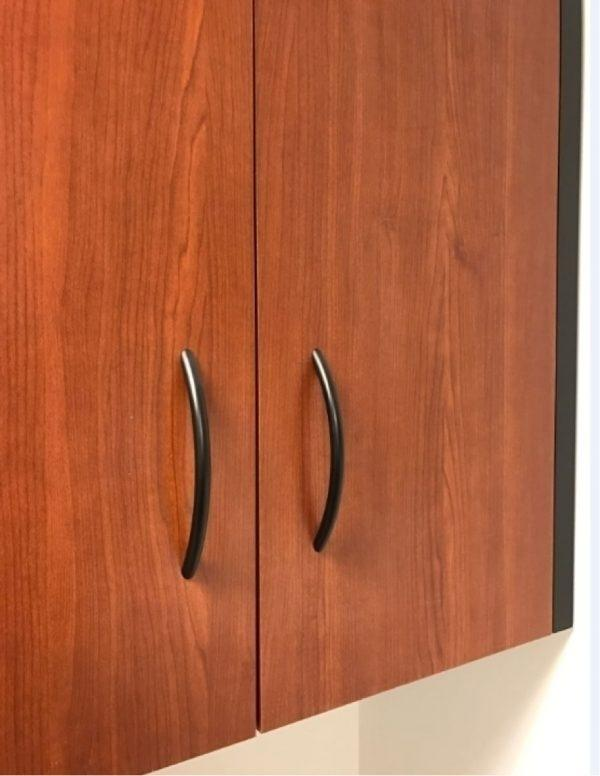cabinet_door: (254, 0, 562, 689), (1, 0, 260, 749)
handle: (171, 343, 221, 587), (305, 342, 354, 558)
